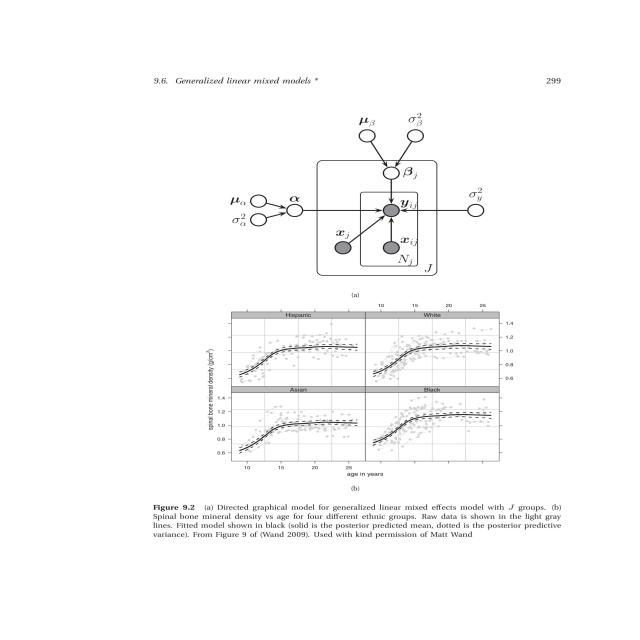diagram: (128, 98, 604, 581)
